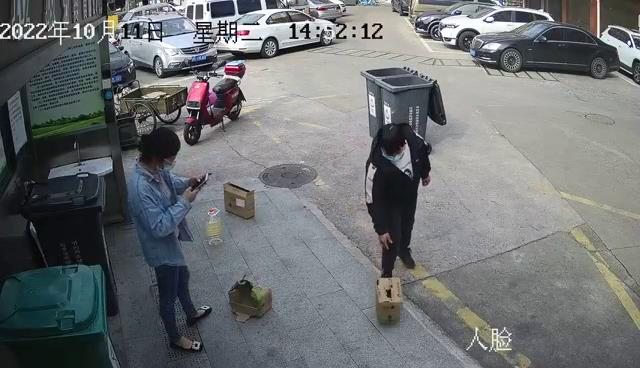person: (360, 121, 433, 285)
suliaozhipin: (202, 206, 226, 249)
worker: (125, 125, 218, 356)
zhizhipin: (225, 274, 275, 325), (373, 274, 406, 328), (222, 179, 259, 222)
